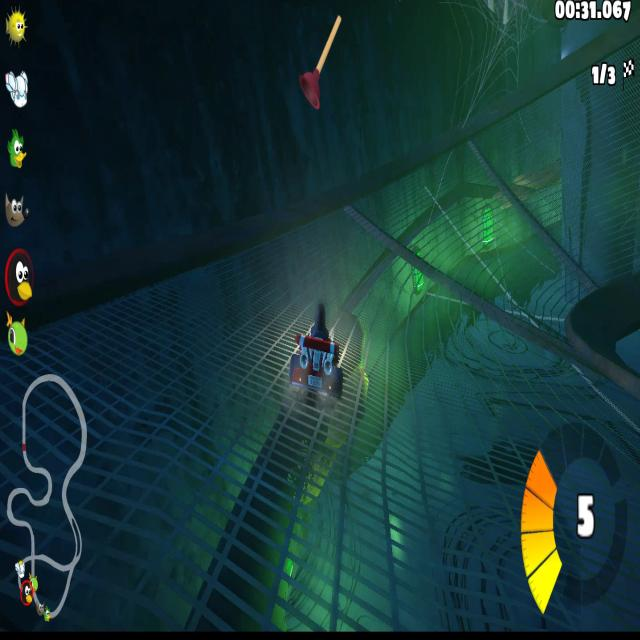player_kart: (290, 308, 344, 399)
track: (352, 147, 634, 280)
